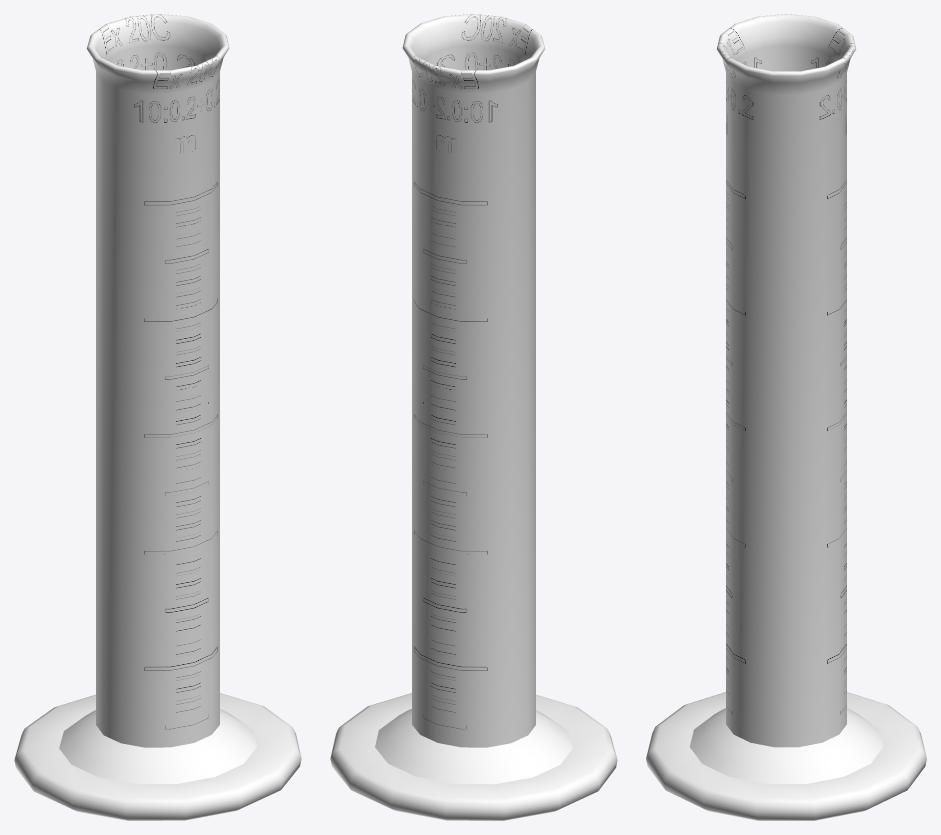
The model's file is chemical_ measuringcylinder_250ml.FBX.
The picture shows the model from 3 angles, left to right: view 1: azimuth 30°, elevation 25°; view 2: azimuth 150°, elevation 25°; view 3: azimuth 270°, elevation 25°; orthographic projection.
Visible parts, largest first — view 1: chemical_ measuringcylinder_250ml; view 2: chemical_ measuringcylinder_250ml; view 3: chemical_ measuringcylinder_250ml.
Boxes of the visible parts, box(x1,y1,x2,y2) form: chemical_ measuringcylinder_250ml: box(14, 14, 301, 820); chemical_ measuringcylinder_250ml: box(330, 14, 617, 820); chemical_ measuringcylinder_250ml: box(646, 14, 926, 820).
Bounding box in the file's own units: 11.31 × 31.38 × 11.07.
1 material, 1 textured.
